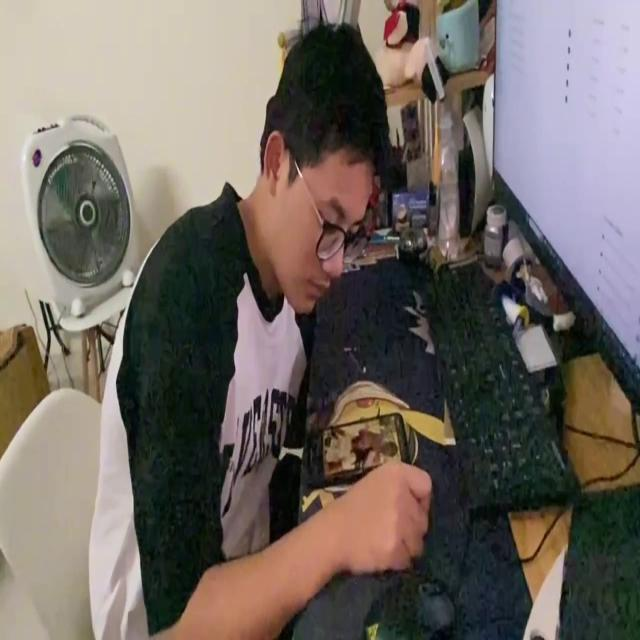laptop: (489, 0, 640, 417)
phone: (301, 406, 413, 489)
student: (88, 13, 431, 640)
